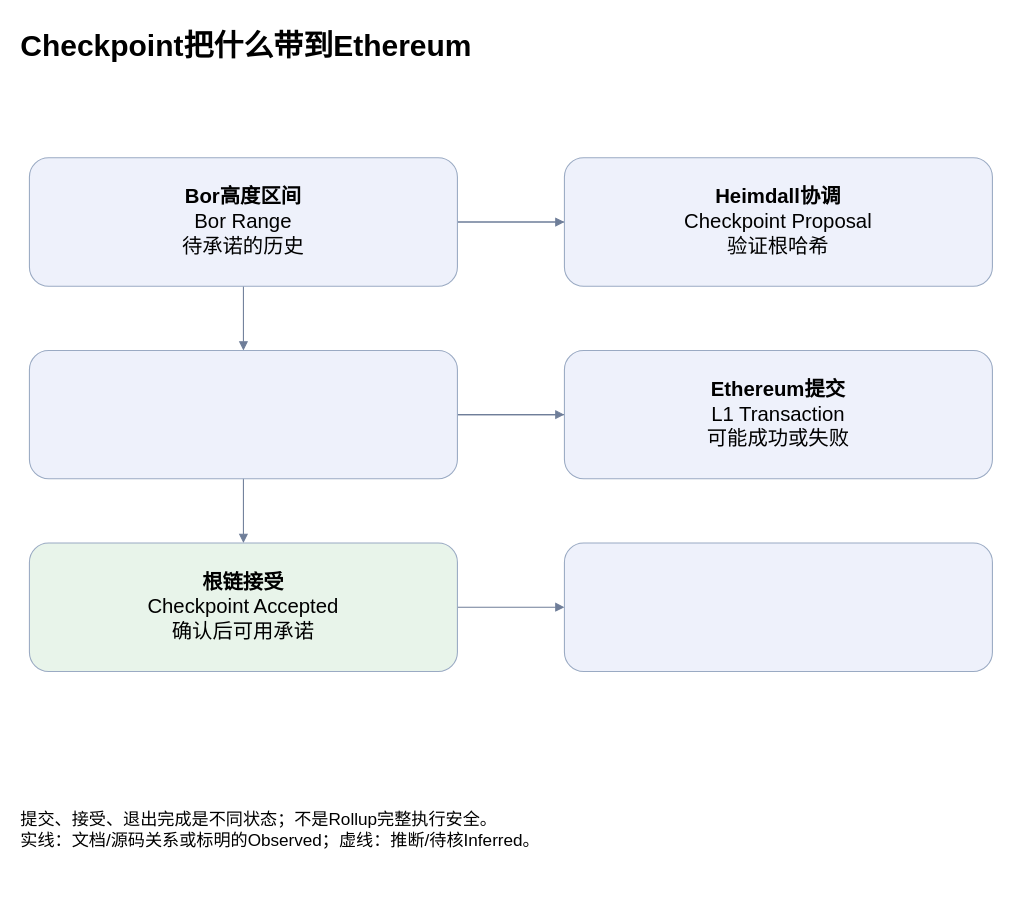
This 1021x908 diagram has some shape labels left out. Here are the shapes that lost their labels. From the top down, the centre of each, then its label:
At [242,414]: "验证者认证 Validator Attestation 按协议处理".
At [777,606]: "退出证明 Exit Proof 仍需完成释放调用".
